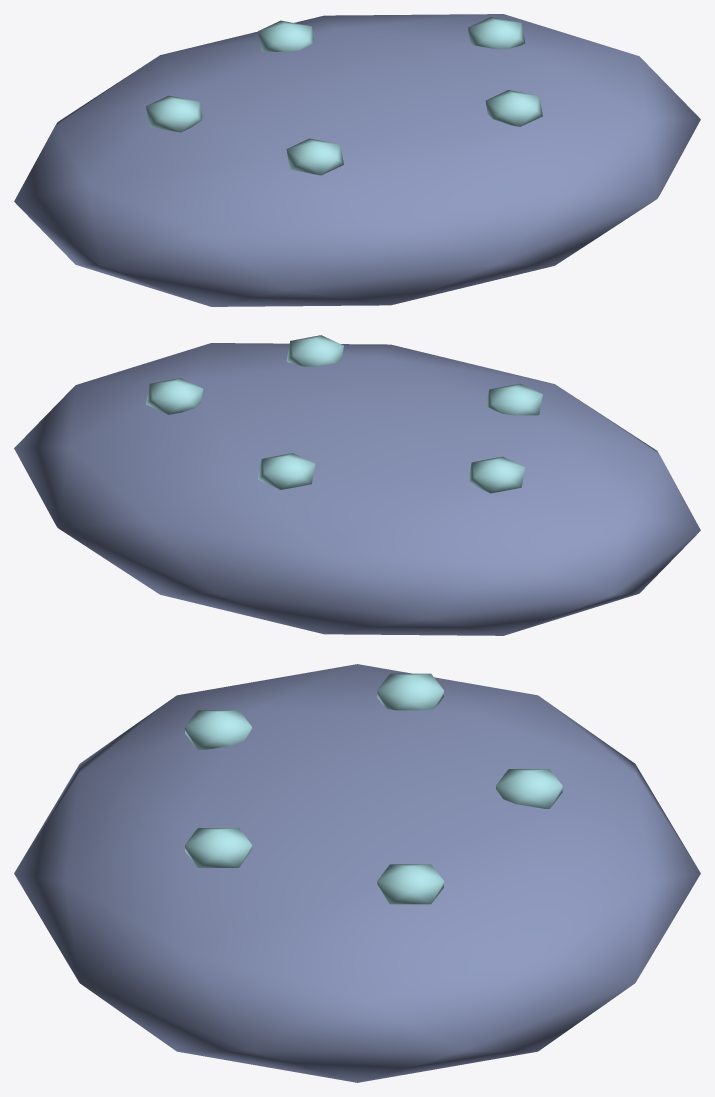
The model's file is stepping_stone.glb.
3 renders of one model, top to bottom at view 1: azimuth 30°, elevation 25°; view 2: azimuth 150°, elevation 25°; view 3: azimuth 270°, elevation 25°, orthographic. The views are drawn at different scales.
Visible parts, largest first — view 1: Tint_Surface.003, Trim_Detail.003; view 2: Tint_Surface.003, Trim_Detail.003; view 3: Tint_Surface.003, Trim_Detail.003.
Boxes of the visible parts, bbox=[...] form: Tint_Surface.003: bbox=[14, 14, 700, 306]; Trim_Detail.003: bbox=[146, 17, 542, 175]; Tint_Surface.003: bbox=[14, 343, 700, 635]; Trim_Detail.003: bbox=[146, 335, 542, 493]; Tint_Surface.003: bbox=[14, 664, 700, 1082]; Trim_Detail.003: bbox=[185, 673, 562, 904].
Size of the model in its own units: 5.14 by 1.34 by 4.2.
